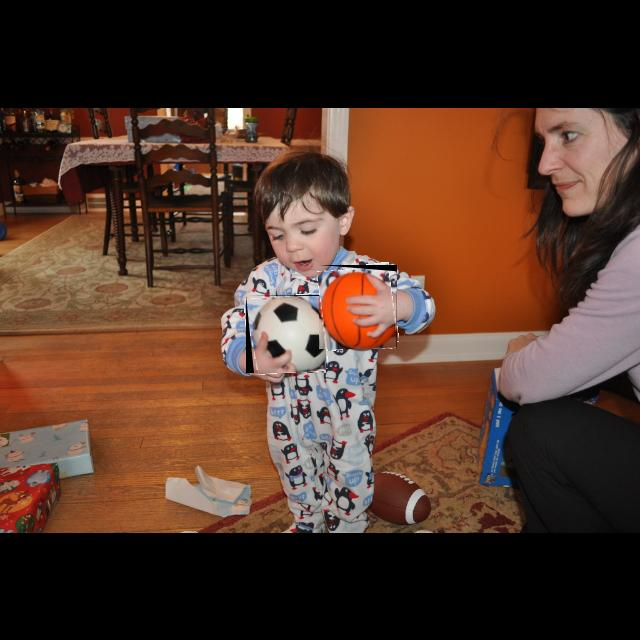Football: (319, 265, 397, 349), (246, 295, 326, 373)
